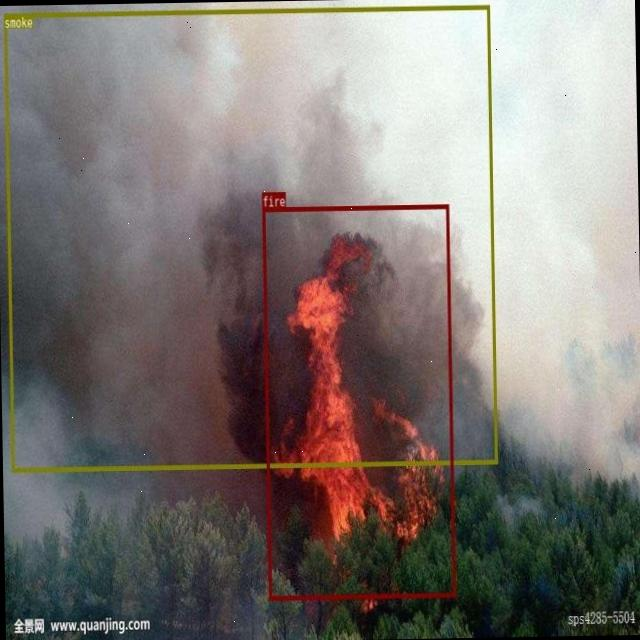fire: (261, 203, 455, 599)
smoke: (4, 4, 498, 470)
